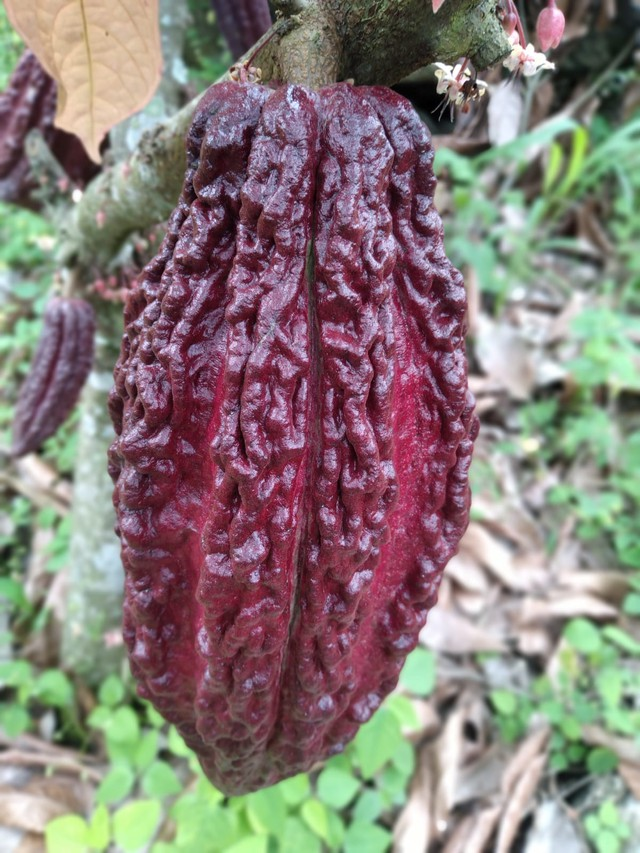Health: (83, 41, 500, 819)
